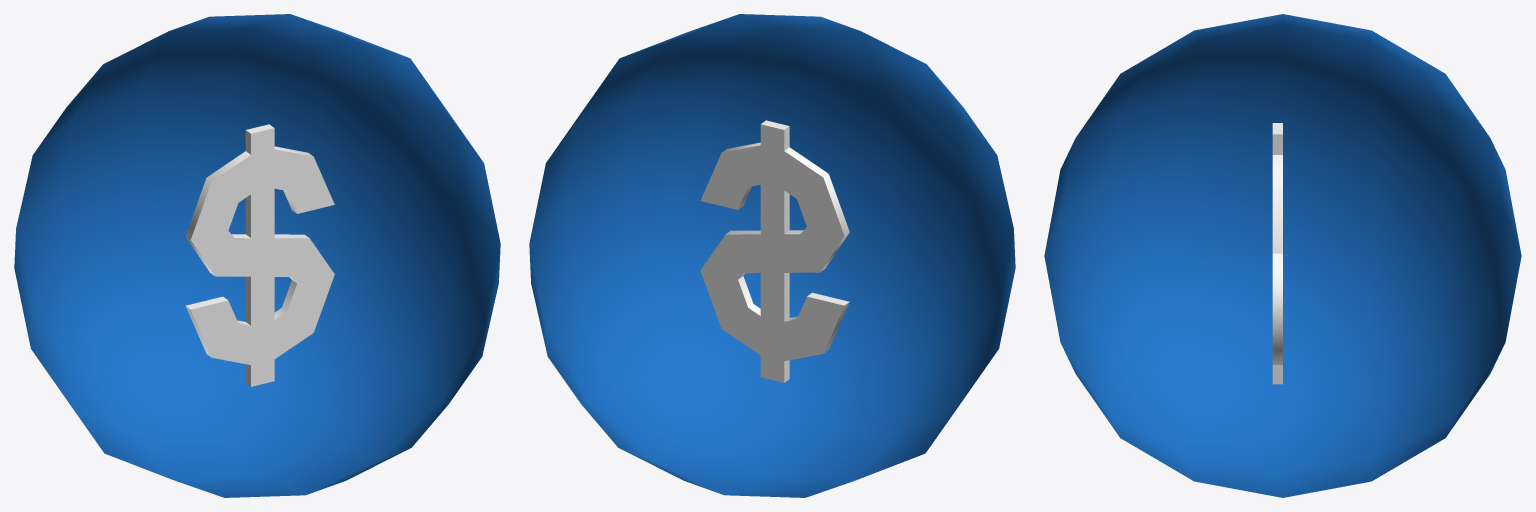
The model's file is SA_Button_Bottle.glb.
The picture shows the model from 3 angles, left to right: view 1: azimuth 30°, elevation 25°; view 2: azimuth 150°, elevation 25°; view 3: azimuth 270°, elevation 25°; orthographic projection.
Parts seen in each view (by area): view 1: geo_Bottle_button; view 2: geo_Bottle_button; view 3: geo_Bottle_button.
Boxes of the visible parts, left/top/right/bottom form: geo_Bottle_button: left=14, top=14, right=500, bottom=497; geo_Bottle_button: left=529, top=14, right=1015, bottom=497; geo_Bottle_button: left=1044, top=14, right=1521, bottom=497.
Size of the model in its own units: 0.0584 by 0.0584 by 0.0584.
